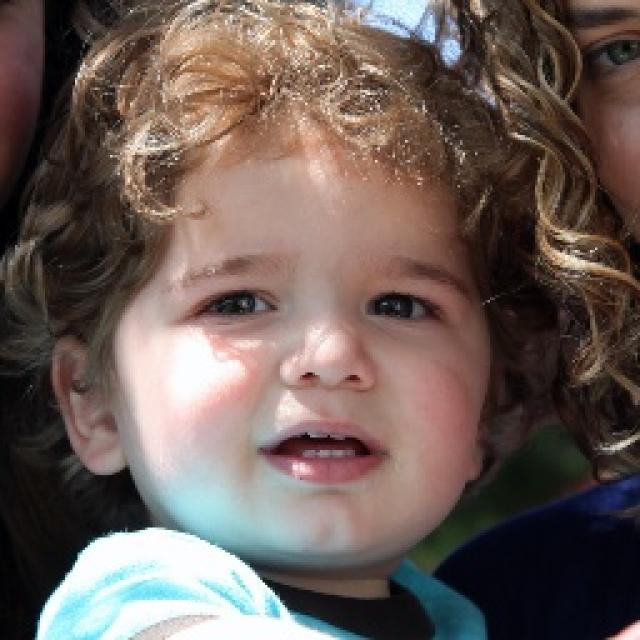earlobe: (50, 336, 128, 476)
